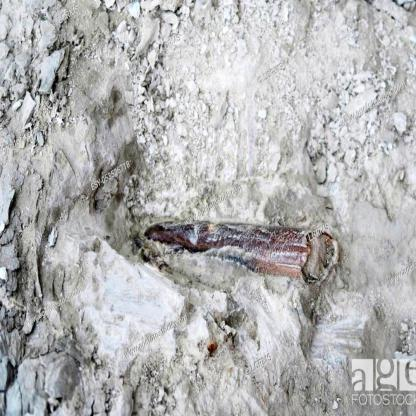Sedimentary_Chalk: (124, 0, 416, 210), (49, 224, 187, 391)
